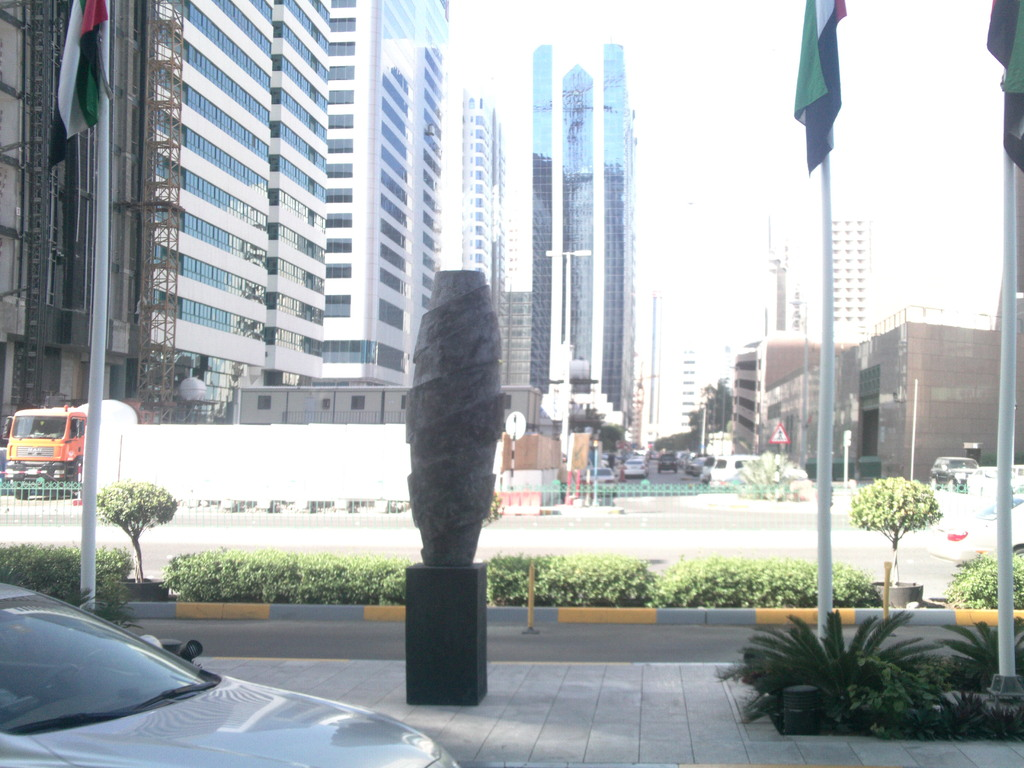cars: (0, 572, 464, 766), (577, 439, 769, 500), (919, 486, 1023, 570), (923, 452, 981, 491), (968, 461, 1016, 489), (1007, 459, 1023, 482)
